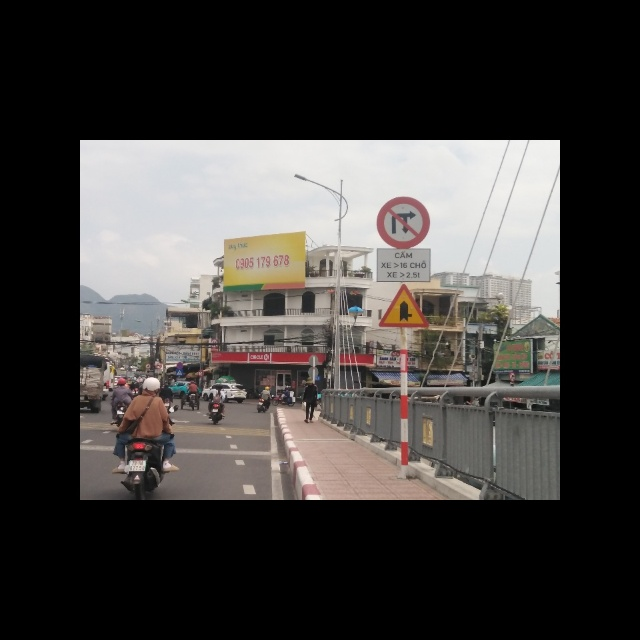Cấm quay đầu và rẽ phải: (374, 197, 430, 249)
Giao nhau với đường không ưu tiên: (377, 283, 432, 328)
